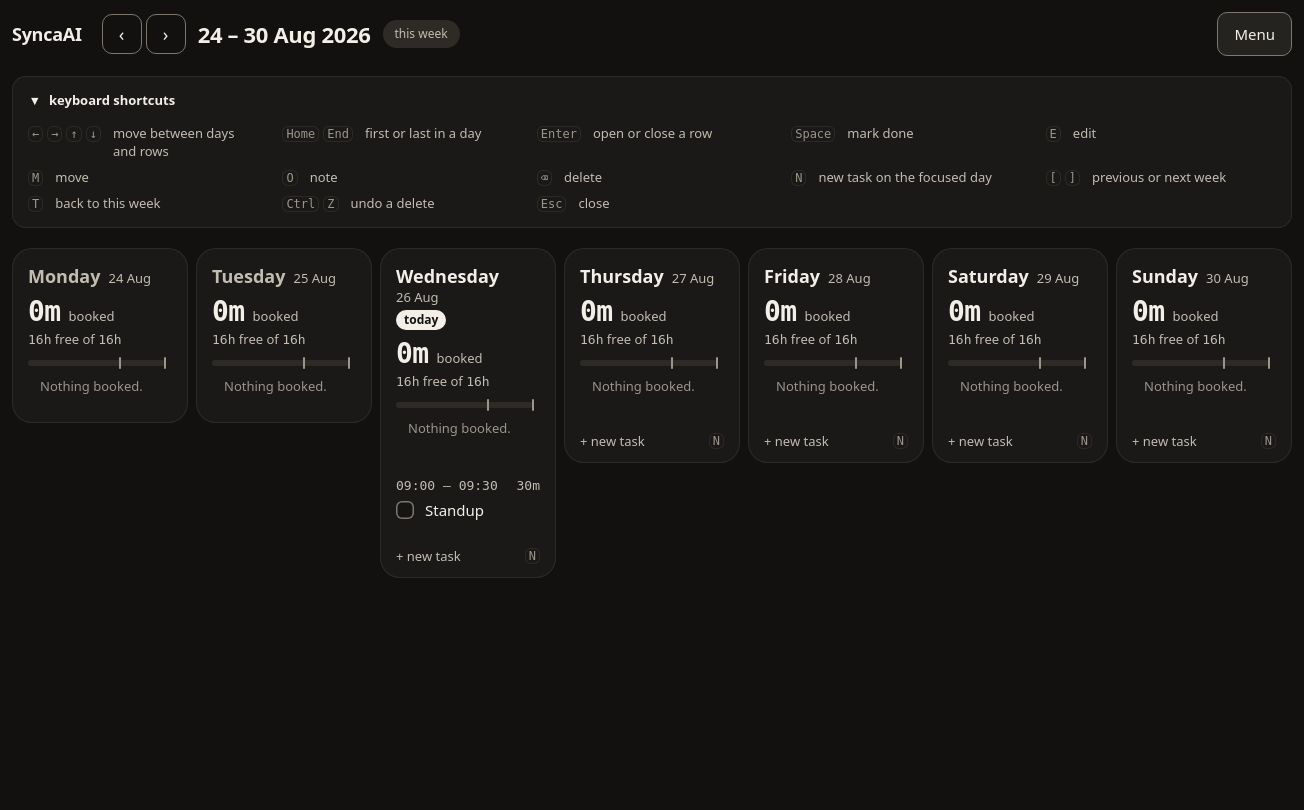
Test: deleting a task that cannot come back › says why this one cannot come back
Click the cell "09:00 – 09:30 30m Standup".
click(468, 500)  # box [384,465,552,534]
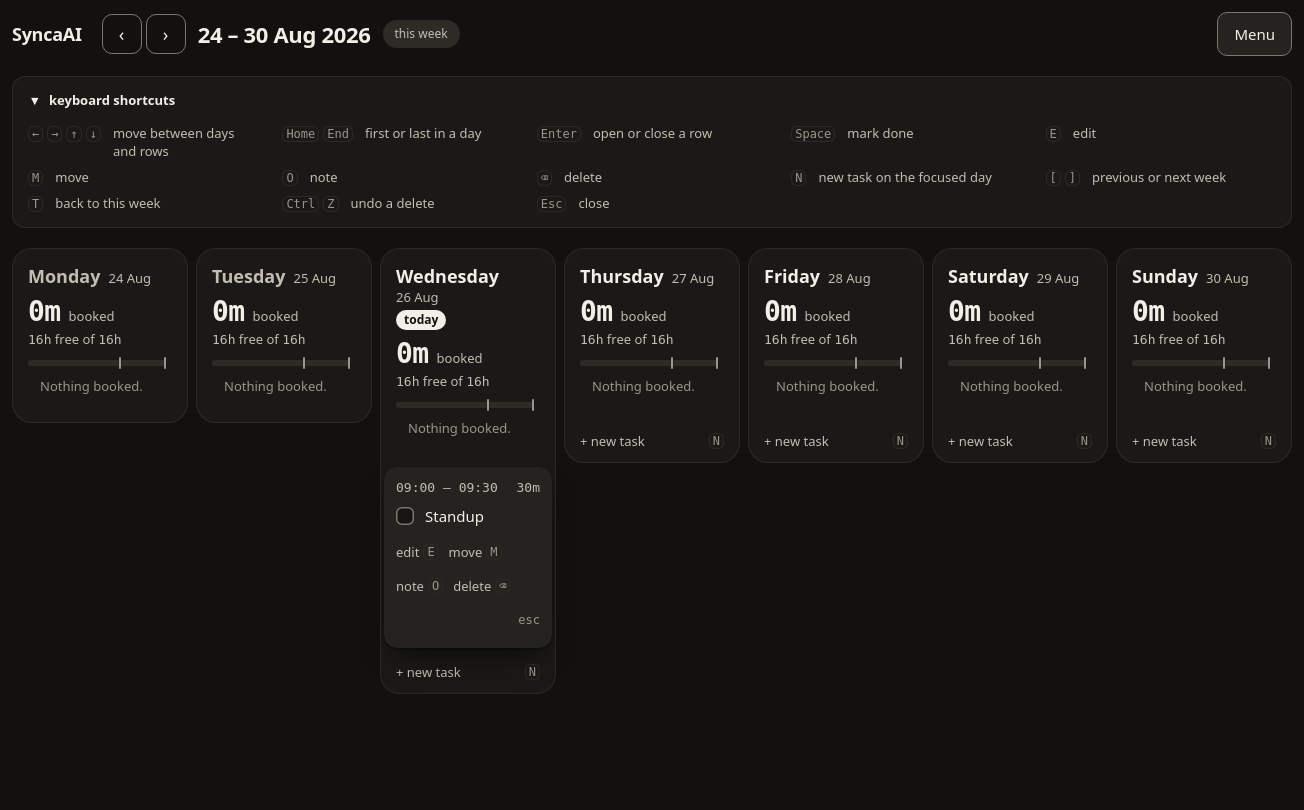
Expected: the cell "09:00 – 09:30 30m Standup edit E move M note O delete ⌫ esc" is shown, [384,467,552,648]
Click the button "delete ⌫".
click(482, 586)  # box [449,570,514,602]
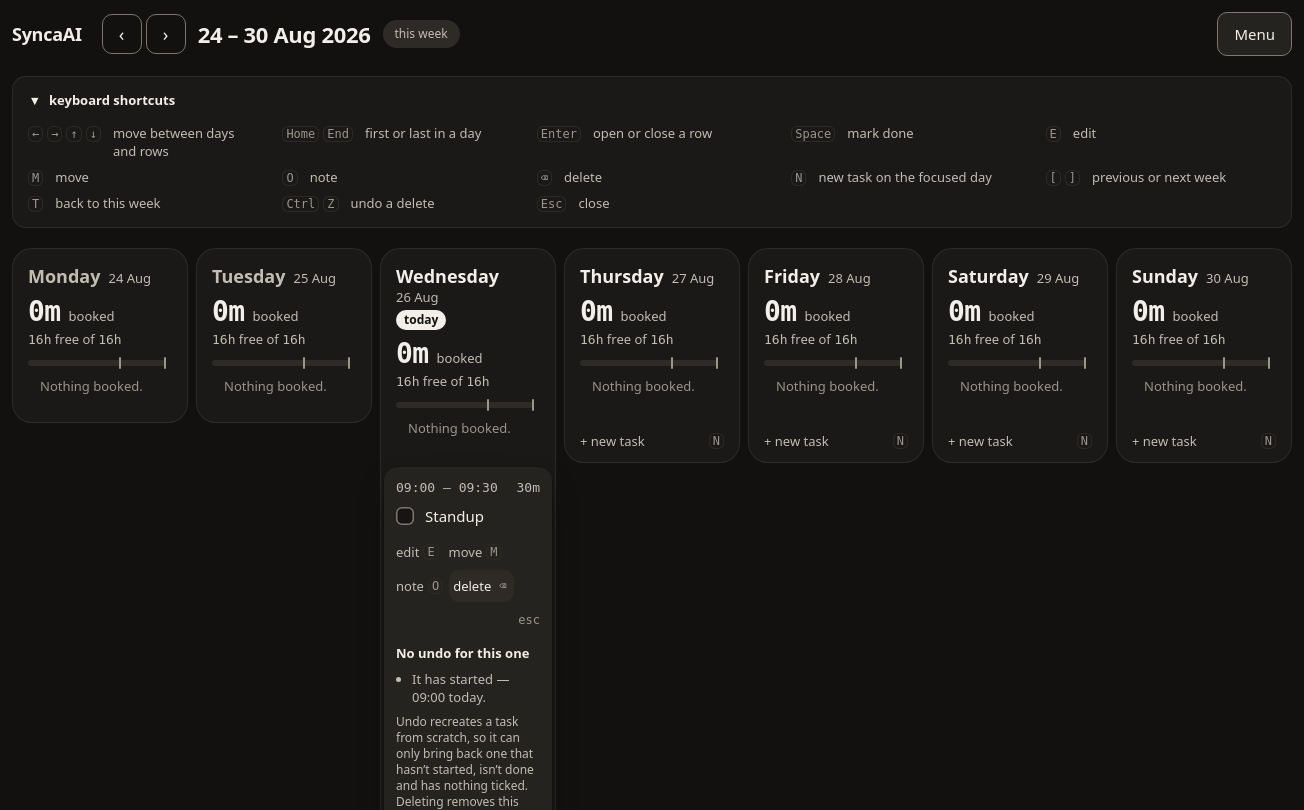
Now the list item "It has started — 09:00 today." is shown, box [412,670,509,706]
